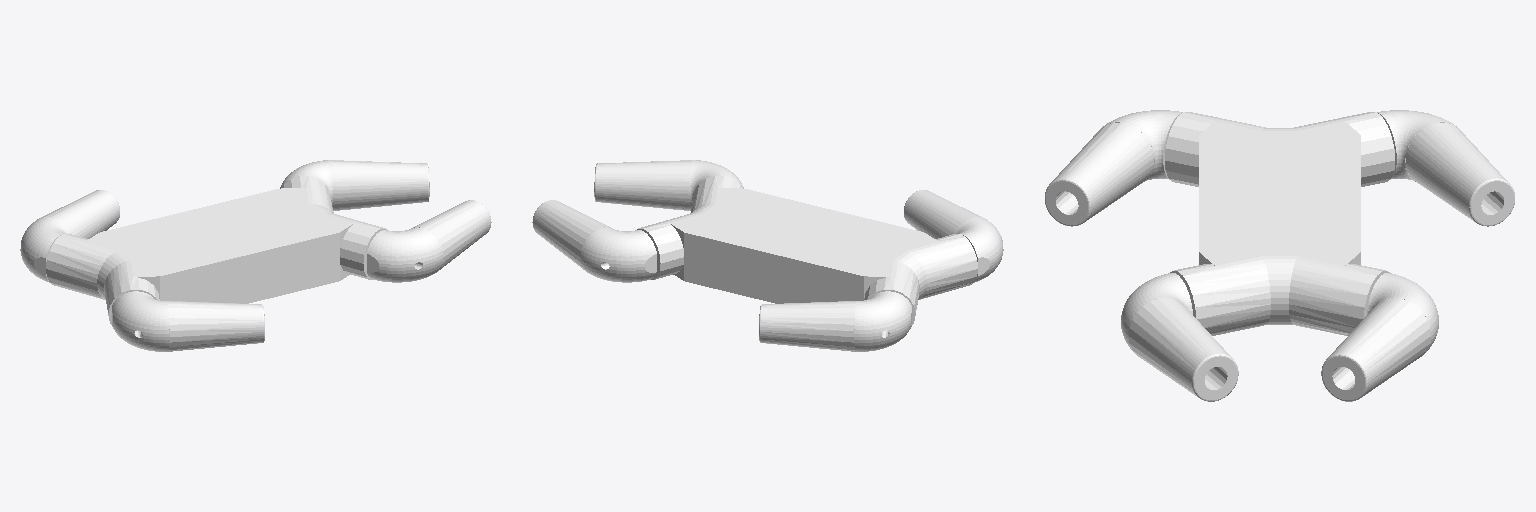
URDF robot description (26_degree):
<?xml version="1.0" encoding="utf-8"?>
<!-- This URDF was automatically created by SolidWorks to URDF Exporter! Originally created by [author] ([email redacted]) 
     Commit Version: 1.5.1-0-g916b5db  Build Version: 1.5.7152.31018
     For more information, please see http://wiki.ros.org/sw_urdf_exporter -->
<robot
  name="26_degree">
  <link
    name="base_link">
    <inertial>
      <origin
        xyz="2.0817E-17 7.6941E-08 5.2042E-18"
        rpy="0 0 0" />
      <mass
        value="2.942" />
      <inertia
        ixx="0.0100628"
        ixy="1.1448E-18"
        ixz="-9.2851E-09"
        iyy="0.0476043"
        iyz="4.3937E-19"
        izz="0.0550178" />
    </inertial>
    <visual>
      <origin
        xyz="0 0 0"
        rpy="0 0 0" />
      <geometry>
        <mesh
          filename="package://26_degree/meshes/base_link.STL" />
      </geometry>
      <material
        name="">
        <color
          rgba="1 1 1 1" />
      </material>
    </visual>
    <collision>
      <origin
        xyz="0 0 0"
        rpy="0 0 0" />
      <geometry>
        <mesh
          filename="package://26_degree/meshes/base_link.STL" />
      </geometry>
    </collision>
  </link>
  <link
    name="left_front_link">
    <inertial>
      <origin
        xyz="-9.2539E-08 0.056833 -0.03601"
        rpy="0 0 0" />
      <mass
        value="0.095" />
      <inertia
        ixx="0.0002672"
        ixy="5.0045E-10"
        ixz="6.2813E-10"
        iyy="0.0000540"
        iyz="2.33E-05"
        izz="0.0002642" />
    </inertial>
    <visual>
      <origin
        xyz="0 0 0"
        rpy="0 0 0" />
      <geometry>
        <mesh
          filename="package://26_degree/meshes/left_front_link.STL" />
      </geometry>
      <material
        name="">
        <color
          rgba="1 1 1 1" />
      </material>
    </visual>
    <collision>
      <origin
        xyz="0 0 0"
        rpy="0 0 0" />
      <geometry>
        <mesh
          filename="package://26_degree/meshes/left_front_link.STL" />
      </geometry>
    </collision>
  </link>
  <joint
    name="left_front_leg"
    type="continuous">
    <origin
      xyz="0.17515 0.092576 0"
      rpy="2.0246 1.5708 0" />
    <parent
      link="base_link" />
    <child
      link="left_front_link" />
    <axis
      xyz="0 0 -1" />
    <limit
      effort="5"
      velocity="487" />
  </joint>
  <link
    name="right_front_link">
    <inertial>
      <origin
        xyz="9.2539E-08 0.056833 0.03601"
        rpy="0 0 0" />
      <mass
        value="0.095" />
      <inertia
        ixx="0.0002672"
        ixy="-5.0045E-10"
        ixz="6.2813E-10"
        iyy="0.0000540"
        iyz="-2.33E-05"
        izz="0.0002642" />
    </inertial>
    <visual>
      <origin
        xyz="0 0 0"
        rpy="0 0 0" />
      <geometry>
        <mesh
          filename="package://26_degree/meshes/right_front_link.STL" />
      </geometry>
      <material
        name="">
        <color
          rgba="1 1 1 1" />
      </material>
    </visual>
    <collision>
      <origin
        xyz="0 0 0"
        rpy="0 0 0" />
      <geometry>
        <mesh
          filename="package://26_degree/meshes/right_front_link.STL" />
      </geometry>
    </collision>
  </link>
  <joint
    name="right_front_leg"
    type="continuous">
    <origin
      xyz="0.17515 -0.092576 0"
      rpy="1.117 1.5708 0" />
    <parent
      link="base_link" />
    <child
      link="right_front_link" />
    <axis
      xyz="0 0 1" />
    <limit
      effort="5"
      velocity="487" />
  </joint>
  <link
    name="right_back_link">
    <inertial>
      <origin
        xyz="8.2493E-08 0.056834 0.03601"
        rpy="0 0 0" />
      <mass
        value="0.095" />
      <inertia
        ixx="0.0002672"
        ixy="-5.119E-10"
        ixz="1.882E-10"
        iyy="0.0000540"
        iyz="-2.33E-05"
        izz="0.0002642" />
    </inertial>
    <visual>
      <origin
        xyz="0 0 0"
        rpy="0 0 0" />
      <geometry>
        <mesh
          filename="package://26_degree/meshes/right_back_link.STL" />
      </geometry>
      <material
        name="">
        <color
          rgba="1 1 1 1" />
      </material>
    </visual>
    <collision>
      <origin
        xyz="0 0 0"
        rpy="0 0 0" />
      <geometry>
        <mesh
          filename="package://26_degree/meshes/right_back_link.STL" />
      </geometry>
    </collision>
  </link>
  <joint
    name="right_back_leg"
    type="continuous">
    <origin
      xyz="-0.17515 -0.092576 0"
      rpy="2.0246 1.5708 0" />
    <parent
      link="base_link" />
    <child
      link="right_back_link" />
    <axis
      xyz="0 0 1" />
    <limit
      effort="5"
      velocity="487" />
  </joint>
  <link
    name="left_back_link">
    <inertial>
      <origin
        xyz="-8.2493E-08 0.056834 -0.03601"
        rpy="0 0 0" />
      <mass
        value="0.095" />
      <inertia
        ixx="0.0002672"
        ixy="5.119E-10"
        ixz="1.882E-10"
        iyy="0.0000540"
        iyz="2.33E-05"
        izz="0.0002642" />
    </inertial>
    <visual>
      <origin
        xyz="0 0 0"
        rpy="0 0 0" />
      <geometry>
        <mesh
          filename="package://26_degree/meshes/left_back_link.STL" />
      </geometry>
      <material
        name="">
        <color
          rgba="1 1 1 1" />
      </material>
    </visual>
    <collision>
      <origin
        xyz="0 0 0"
        rpy="0 0 0" />
      <geometry>
        <mesh
          filename="package://26_degree/meshes/left_back_link.STL" />
      </geometry>
    </collision>
  </link>
  <joint
    name="left_back_leg"
    type="continuous">
    <origin
      xyz="-0.17515 0.092576 0"
      rpy="1.117 1.5708 0" />
    <parent
      link="base_link" />
    <child
      link="left_back_link" />
    <axis
      xyz="0 0 -1" />
    <limit
      effort="5"
      velocity="487" />
  </joint>
</robot>

--- Render facts (derived) ---
3 views of the same robot in one strip: view 1: azimuth 30°, elevation 25°; view 2: azimuth 150°, elevation 25°; view 3: azimuth 270°, elevation 25° (orthographic).
Robot: 26_degree — 5 links, 4 joints (4 continuous); root link base_link; default pose: every joint at zero.
Links seen in each view (by area): view 1: base_link, right_back_link, right_front_link, left_front_link, left_back_link; view 2: base_link, left_back_link, left_front_link, right_front_link, right_back_link; view 3: base_link, left_front_link, right_front_link, right_back_link, left_back_link.
Boxes of the visible links, x1,y1,x2,y2 form: base_link: (46, 176, 386, 324); right_back_link: (112, 291, 264, 351); right_front_link: (367, 200, 491, 282); left_front_link: (280, 160, 429, 210); left_back_link: (20, 190, 119, 282); base_link: (637, 176, 977, 324); left_back_link: (759, 291, 911, 351); left_front_link: (532, 200, 656, 282); right_front_link: (594, 160, 743, 210); right_back_link: (904, 190, 1003, 282); base_link: (1165, 112, 1394, 335); left_front_link: (1321, 273, 1438, 401); right_front_link: (1121, 273, 1238, 401); right_back_link: (1045, 110, 1182, 226); left_back_link: (1377, 110, 1514, 226).
Size in the robot's own frame: 0.5566 by 0.438 by 0.0672 metres.
5 mesh visuals loaded from 5 distinct referenced files (5 binary STL).